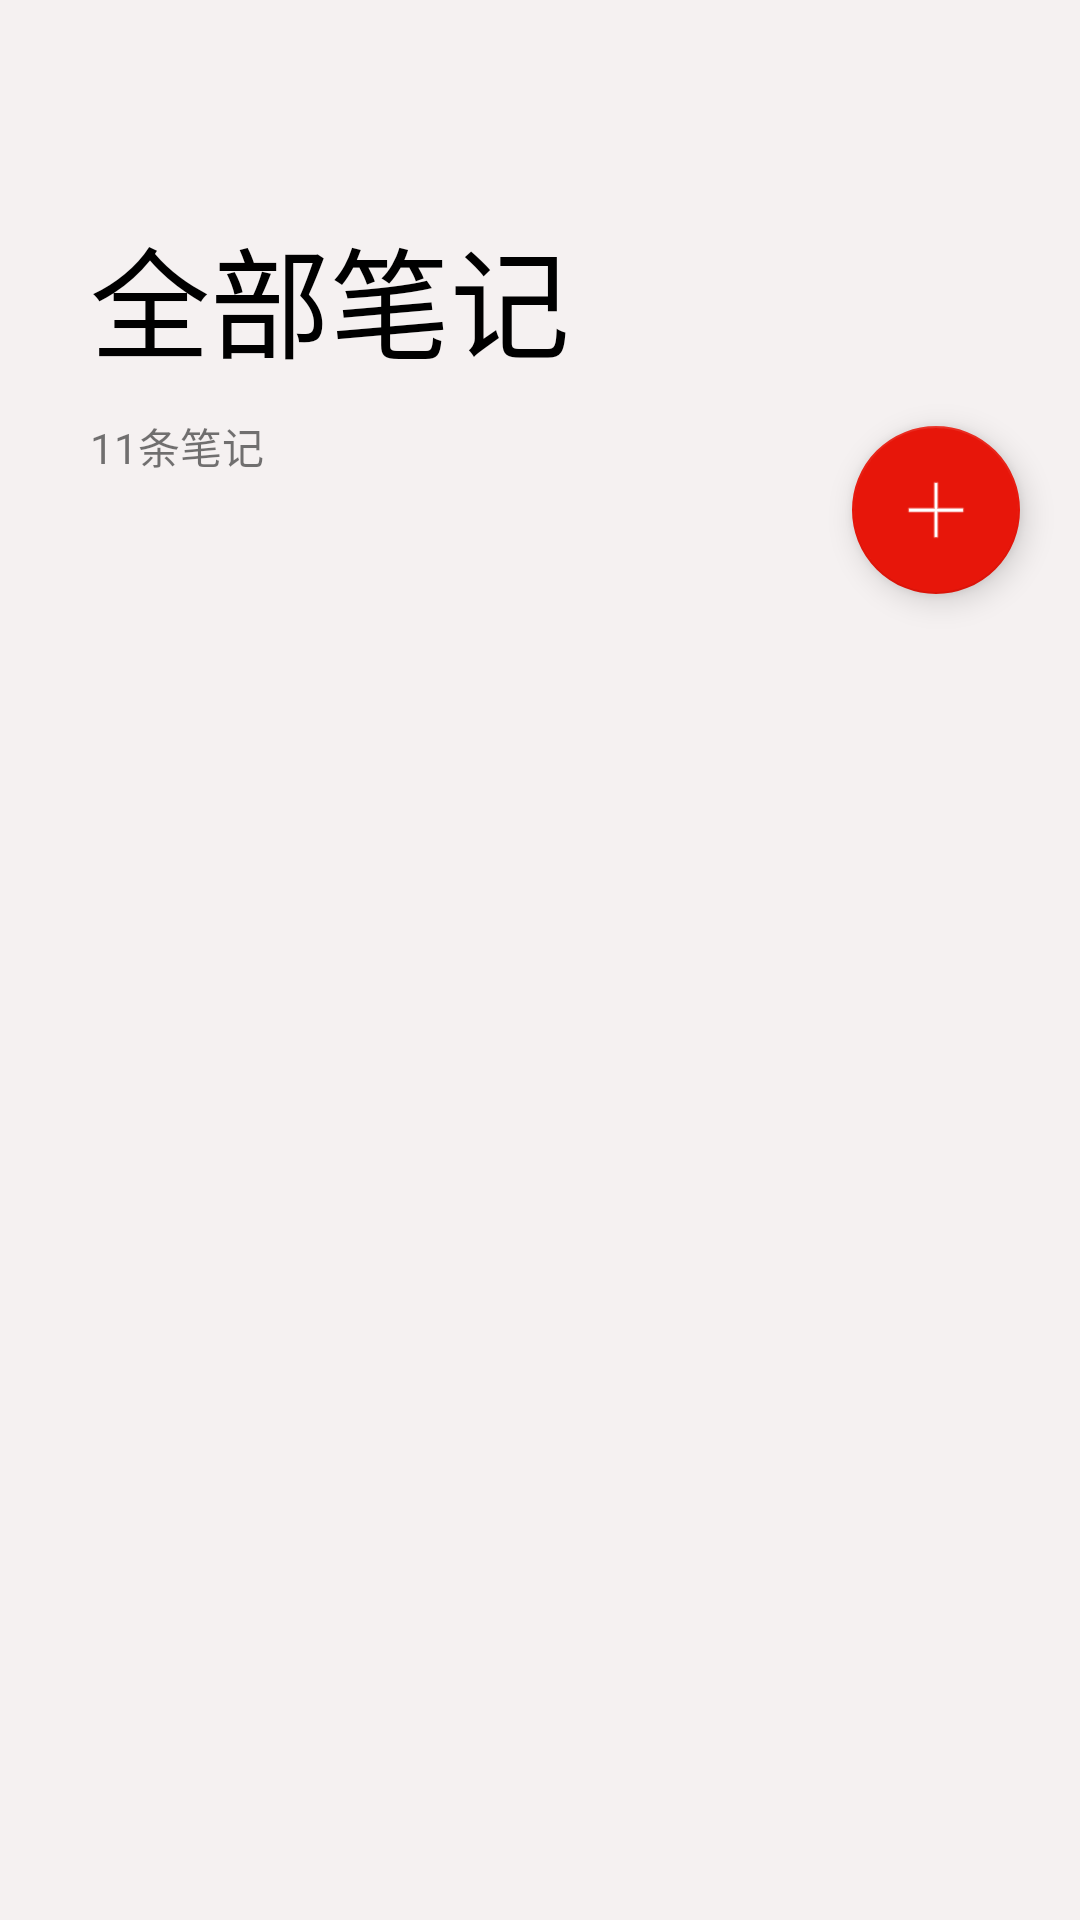

Icon bounding boxes for this 1080px×1920px phone screenshot, format (x1, y1, x2, y2):
add: (852, 426, 1020, 594)
